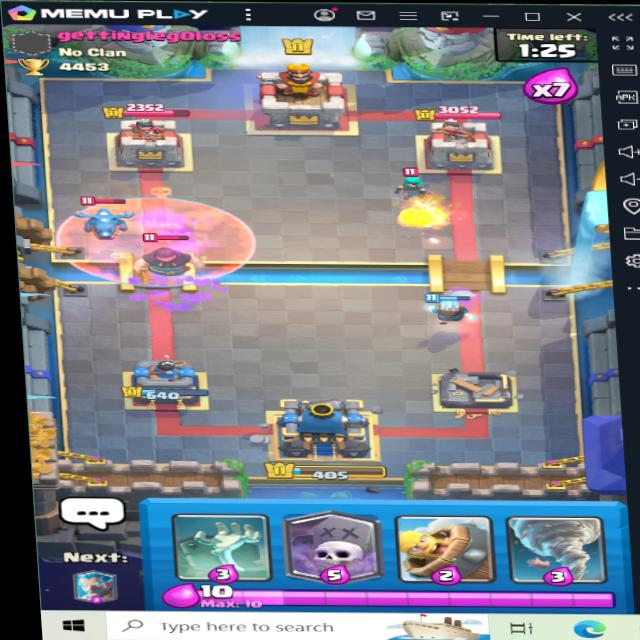electro-dragon: (69, 188, 137, 240)
rascal-boy: (135, 233, 208, 269)
rascal-girl: (397, 167, 439, 200)
